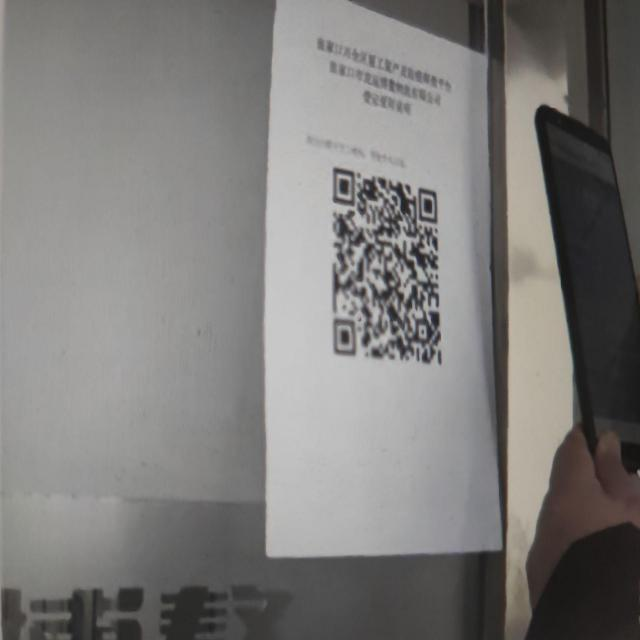qr_code: (333, 168, 442, 368)
